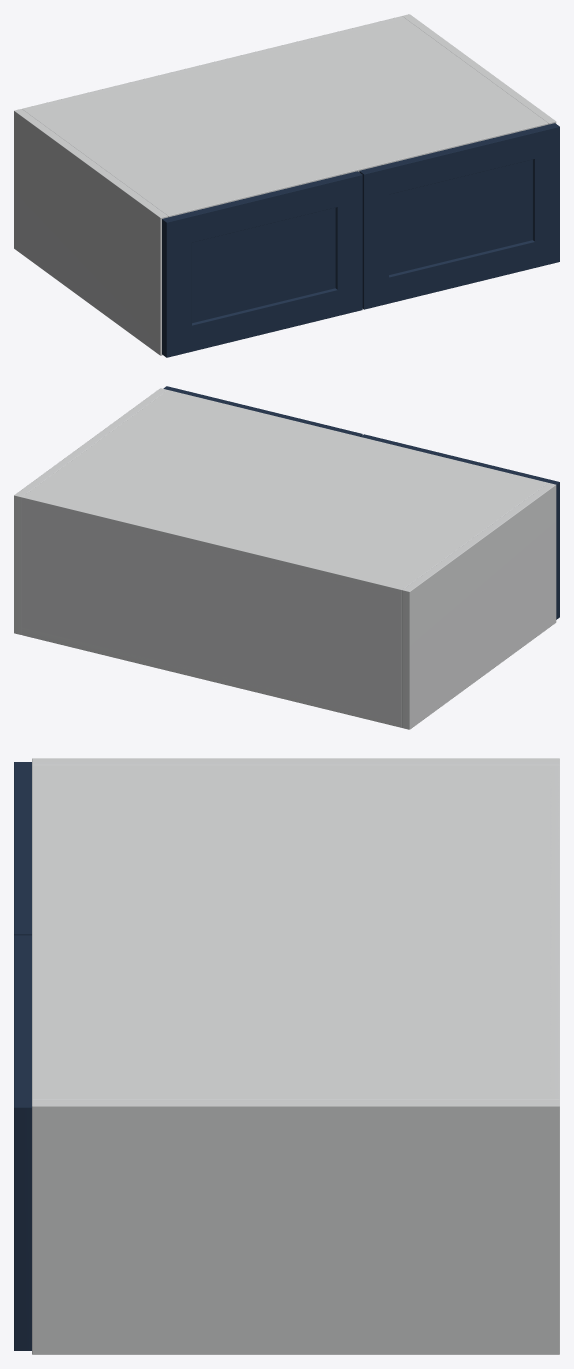
File: oppein-ply-bss-w361224.glb
3 renders of one model, top to bottom at view 1: azimuth 30°, elevation 25°; view 2: azimuth 150°, elevation 25°; view 3: azimuth 270°, elevation 25°, orthographic. The views are drawn at different scales.
Parts seen in each view (by area): view 1: Cabinet top, Door, Door.001, Cabinet side, Cabinet side.001, Cabinet back; view 2: Cabinet top, Cabinet back, Cabinet side, Cabinet side.001, Cabinet bottom, Door, Door.001; view 3: Cabinet top, Cabinet side.001, Door.001, Cabinet side, Cabinet back, Door.
Boxes of the visible parts, x1,y1,x2,y2 form: Cabinet top: (22,17,548,217); Door: (162,171,362,357); Door.001: (359,123,559,309); Cabinet side: (14,109,167,355); Cabinet side.001: (402,14,556,124); Cabinet back: (22,16,403,110); Cabinet top: (22,390,547,595); Cabinet back: (21,495,404,727); Cabinet side: (402,483,556,729); Cabinet side.001: (14,388,167,634); Cabinet bottom: (22,627,401,727); Door: (361,434,559,619); Door.001: (163,386,362,436); Cabinet top: (32,765,559,1099); Cabinet side.001: (32,1099,559,1354); Door.001: (14,935,31,1350); Cabinet side: (32,758,559,765); Cabinet back: (549,765,559,1099); Door: (14,762,31,935).
Size of the model in its own units: 0.9144 by 0.3048 by 0.6064.
